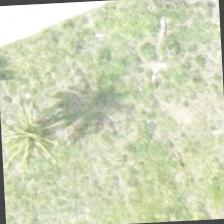Kelapa_Sawit: (0, 85, 73, 179)
